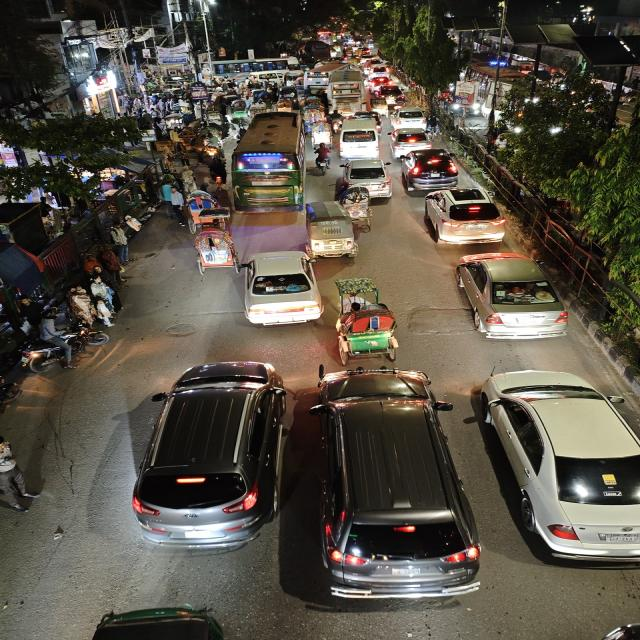bus: (230, 110, 308, 212), (326, 70, 365, 112), (302, 71, 327, 89)
car: (312, 362, 482, 608), (465, 364, 640, 573), (132, 360, 294, 555), (449, 250, 572, 344), (235, 249, 326, 331), (420, 187, 509, 246), (397, 147, 463, 191), (338, 110, 383, 160), (340, 158, 393, 196), (388, 128, 433, 152), (391, 106, 433, 130), (376, 85, 408, 103), (369, 64, 391, 78)
cng: (305, 200, 356, 260)
motorcycle: (16, 318, 113, 374), (312, 142, 333, 172)
pedestrian: (86, 278, 122, 318), (106, 224, 133, 262), (178, 162, 198, 191), (169, 185, 186, 215)
rickshaw: (332, 287, 409, 363), (187, 226, 240, 277), (341, 187, 377, 233), (192, 208, 233, 232), (225, 98, 249, 121), (302, 105, 326, 126), (276, 97, 293, 111)
